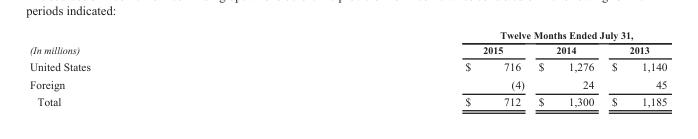table: (28, 28, 666, 107)
table column: (277, 28, 530, 107), (28, 28, 277, 107), (530, 28, 602, 107), (602, 28, 666, 107)
table column header: (28, 28, 666, 57)
table row: (28, 74, 666, 92), (28, 57, 666, 74), (28, 41, 666, 57), (28, 92, 666, 107), (28, 28, 666, 41)
table spanning cell: (28, 28, 277, 57), (277, 28, 666, 41)
